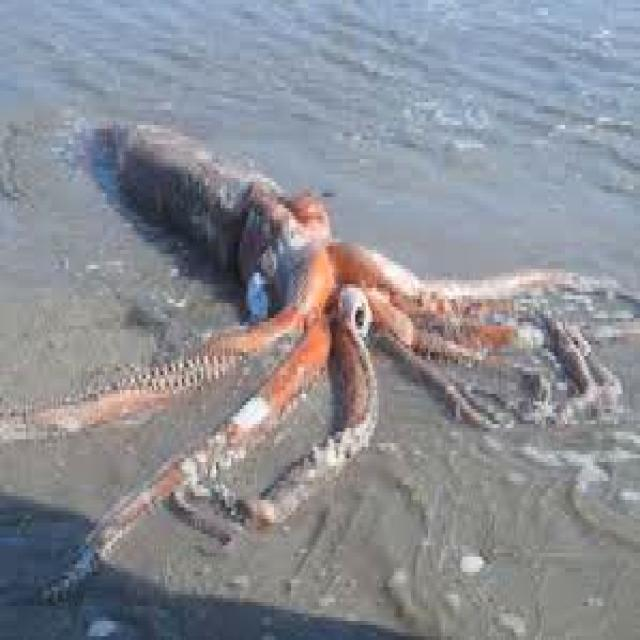squid: (0, 125, 619, 557)
